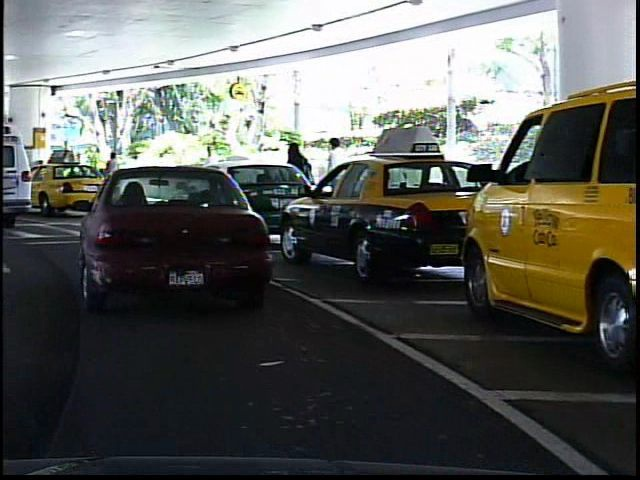person: (279, 135, 314, 227), (320, 130, 352, 220), (197, 139, 223, 204), (98, 147, 123, 198)
